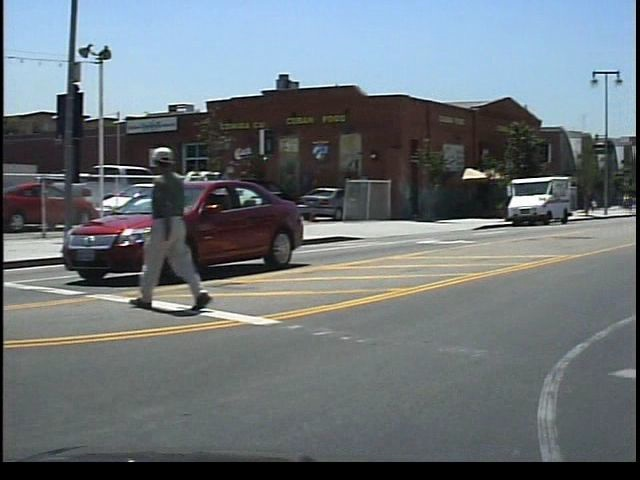person: (140, 142, 223, 314)
